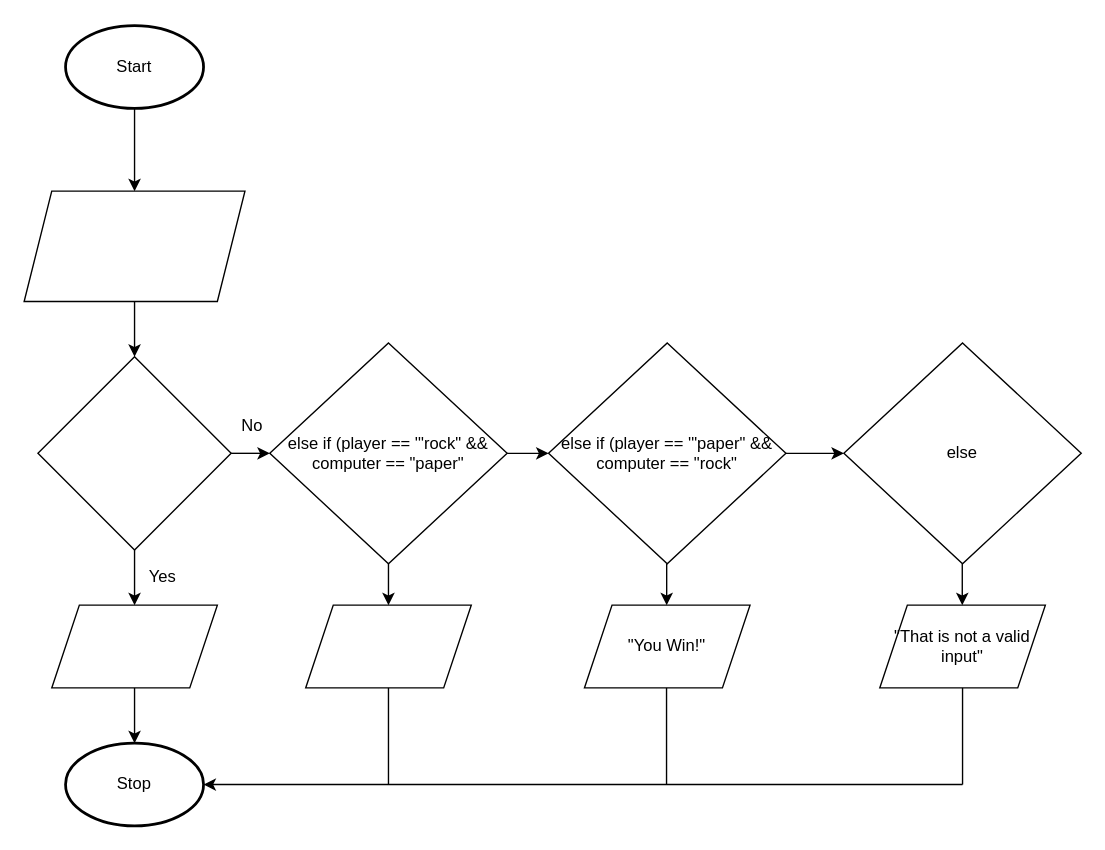
Image size: 1105x850. Some labels were removed from this diagram. The shapes that lost their labels are listed below. From the top down, each one's box as (x1, y1, x2, y2) in pixels, then its label:
(23, 190, 245, 302): Enter rock,paper,scissors
(37, 355, 231, 550): If player == computer
(50, 604, 217, 688): "Tie"
(304, 604, 471, 688): "Computer Won!"
